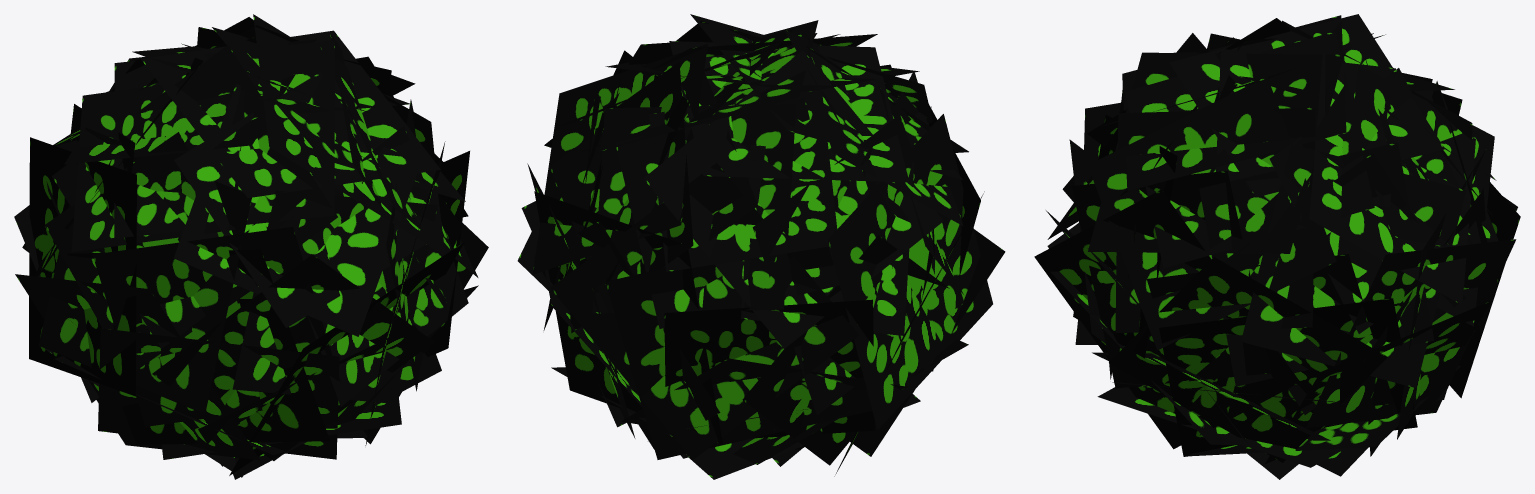
Rendered from test_foliage.glb.
The picture shows the model from 3 angles, left to right: view 1: azimuth 30°, elevation 25°; view 2: azimuth 150°, elevation 25°; view 3: azimuth 270°, elevation 25°; orthographic projection. The views are drawn at different scales.
Visible parts, largest first — view 1: Plane.048, Plane.086, Plane.104, Plane.049, Plane.029, Plane.047, Plane.027, Plane.044, Plane.087, Plane.108, Plane.088, Plane.089 (+27 smaller); view 2: Plane.049, Plane.031, Plane.030, Plane.113, Plane.091, Plane.105, Plane.097, Plane.050, Plane.046, Plane.112, Plane.032, Plane.098 (+28 smaller); view 3: Plane.085, Plane.096, Plane.037, Plane.026, Plane.097, Plane.095, Plane.103, Plane.045, Plane.100, Plane.102, Plane.101, Plane.025 (+27 smaller).
Part boxes in pixels (box(x1,y1,x2,y2)): Plane.048: box(92, 226, 341, 426); Plane.086: box(141, 30, 440, 197); Plane.104: box(174, 83, 416, 336); Plane.049: box(29, 137, 136, 396); Plane.029: box(38, 127, 251, 414); Plane.047: box(71, 85, 245, 252); Plane.027: box(114, 40, 334, 238); Plane.044: box(174, 72, 426, 327); Plane.087: box(52, 45, 337, 348); Plane.108: box(152, 254, 433, 460); Plane.088: box(277, 126, 468, 406); Plane.089: box(67, 249, 329, 444); Plane.049: box(828, 114, 992, 429); Plane.031: box(550, 163, 858, 460); Plane.030: box(643, 50, 943, 348); Plane.113: box(592, 104, 796, 313); Plane.091: box(605, 247, 872, 459); Plane.105: box(669, 41, 909, 182); Plane.097: box(532, 44, 707, 274); Plane.050: box(664, 299, 874, 438); Plane.046: box(649, 87, 837, 271); Plane.112: box(534, 191, 722, 444); Plane.032: box(742, 235, 949, 465); Plane.098: box(615, 97, 839, 328); Plane.085: box(1088, 76, 1336, 350); Plane.096: box(1109, 257, 1387, 462); Plane.037: box(1241, 144, 1466, 387); Plane.026: box(1088, 52, 1343, 253); Plane.097: box(1309, 53, 1475, 304); Plane.095: box(1306, 239, 1516, 427); Plane.103: box(1034, 190, 1299, 449); Plane.045: box(1169, 14, 1444, 197); Plane.100: box(1159, 298, 1417, 456); Plane.102: box(1125, 31, 1374, 268); Plane.101: box(1199, 142, 1434, 386); Plane.025: box(1072, 171, 1271, 388).
Bounding box in the file's own units: 2.7 × 2.73 × 2.82.
1 material, 1 textured.
